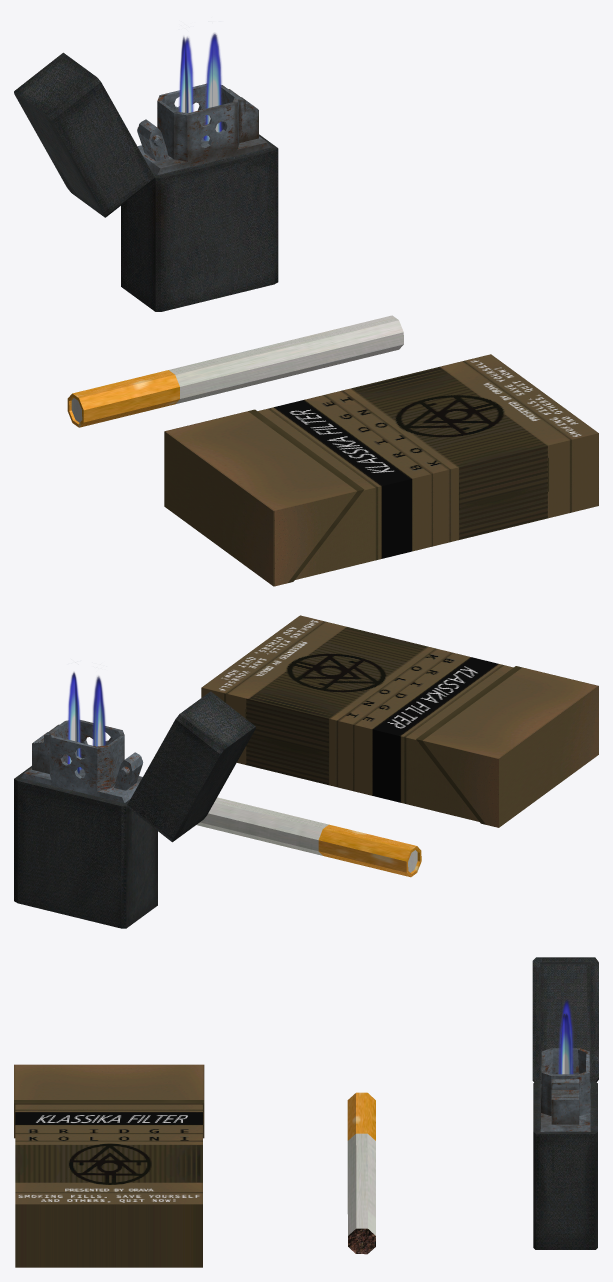
The model's file is mp_cigarette interaction2.glb.
3 views of the same model, one above another, from view 1: azimuth 30°, elevation 25°; view 2: azimuth 150°, elevation 25°; view 3: azimuth 270°, elevation 25° (orthographic). The views are drawn at different scales.
Parts seen in each view (by area): view 1: cigarette box main, zippo lighter main, cigarette box lid, zippo lighter lid, cigarette separate, zippo lighter jet2, zippo lighter jet1, Cube_001; view 2: cigarette box main, zippo lighter main, cigarette box lid, zippo lighter lid, cigarette separate, zippo lighter jet2, zippo lighter jet1, Cube_001; view 3: cigarette box main, zippo lighter main, cigarette box lid, zippo lighter lid, cigarette separate, Cube_001, zippo lighter jet2, zippo lighter jet1.
Part boxes in pixels (box(x1,y1,x2,y2)): cigarette box main: box(258, 354, 598, 579); zippo lighter main: box(121, 83, 278, 311); cigarette box lid: box(164, 409, 364, 586); zippo lighter lid: box(14, 52, 154, 217); cigarette separate: box(67, 315, 403, 427); zippo lighter jet2: box(203, 33, 222, 141); zippo lighter jet1: box(179, 37, 193, 112); Cube_001: box(228, 89, 258, 142); cigarette box main: box(201, 615, 513, 821); zippo lighter main: box(14, 720, 157, 928); cigarette box lid: box(416, 666, 598, 827); zippo lighter lid: box(127, 691, 255, 842); cigarette separate: box(196, 797, 421, 877); zippo lighter jet2: box(67, 672, 82, 773); zippo lighter jet1: box(92, 676, 105, 746); Cube_001: box(32, 724, 59, 773); cigarette box main: box(15, 1104, 202, 1267); zippo lighter main: box(533, 1048, 597, 1249); cigarette box lid: box(14, 1064, 204, 1138); zippo lighter lid: box(532, 957, 598, 1082); cigarette separate: box(347, 1092, 375, 1254); Cube_001: box(551, 1079, 579, 1124); zippo lighter jet2: box(559, 1013, 571, 1074); zippo lighter jet1: box(558, 999, 573, 1074).
Bounding box in the file's own units: 1.95 × 1.57 × 3.49.
Materials: 7 (7 with a texture image).
